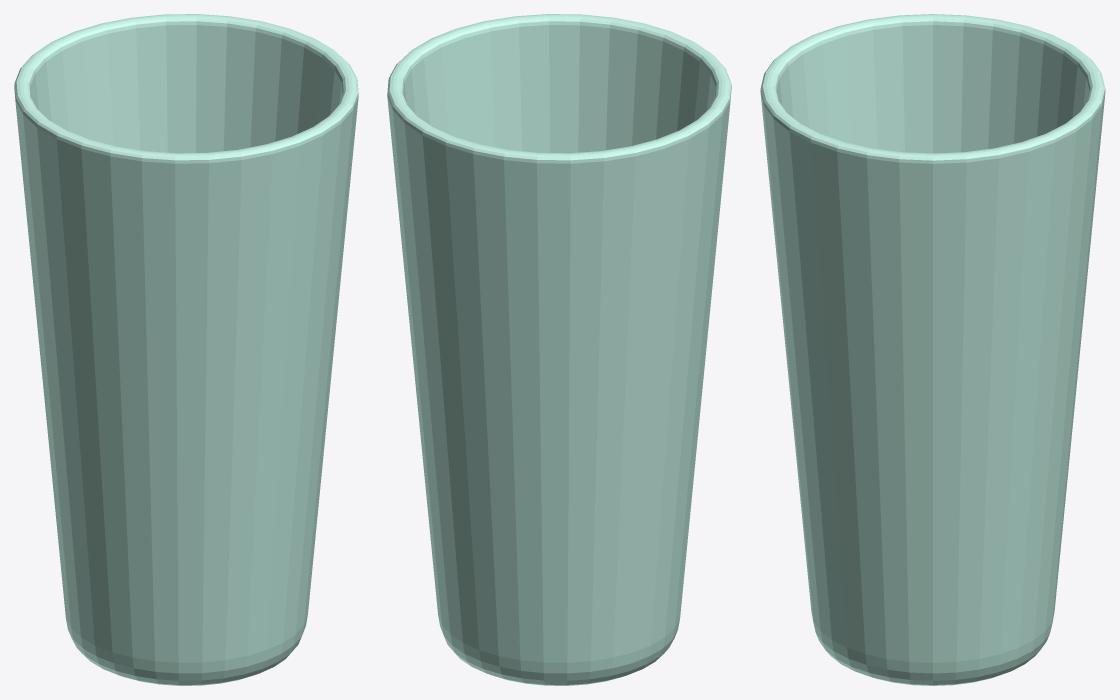
The picture shows the model from 3 angles, left to right: view 1: azimuth 30°, elevation 25°; view 2: azimuth 150°, elevation 25°; view 3: azimuth 270°, elevation 25°; orthographic projection.
Visible parts, largest first — view 1: Cylinder001; view 2: Cylinder001; view 3: Cylinder001.
Part boxes in pixels (box(x1,y1,x2,y2)): Cylinder001: box(14, 14, 358, 685); Cylinder001: box(387, 14, 731, 685); Cylinder001: box(760, 14, 1105, 685).
Bounding box in the file's own units: 345572 × 616588 × 345572.
